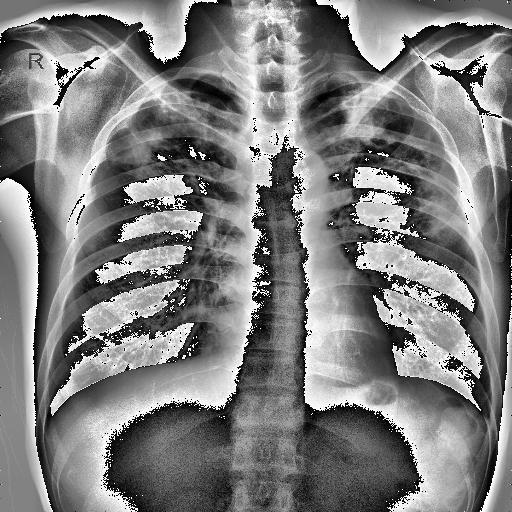11- Pleural thickening: (102, 82, 234, 208)
13- Pulmonary fibrosis: (320, 72, 466, 238), (304, 80, 460, 232), (110, 72, 243, 196), (105, 82, 241, 197), (403, 132, 467, 236)
6- Infiltration: (102, 82, 234, 208), (403, 132, 467, 236), (341, 83, 413, 152)
